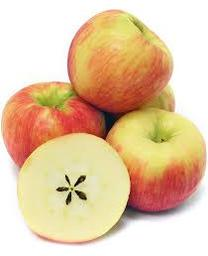apple: (16, 135, 130, 243), (105, 107, 206, 212), (68, 10, 174, 110), (0, 80, 106, 166)
